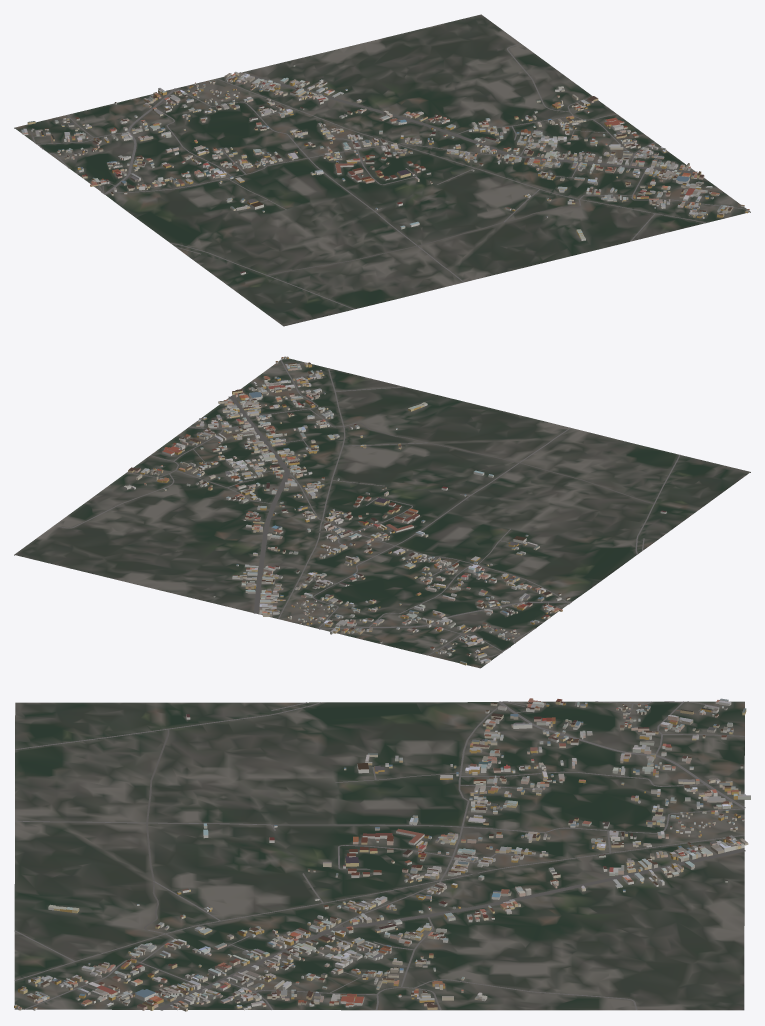
3 renders of one model, top to bottom at view 1: azimuth 30°, elevation 25°; view 2: azimuth 150°, elevation 25°; view 3: azimuth 270°, elevation 25°, orthographic. The views are drawn at different scales.
Visible parts, largest first — view 1: ground, buildings, roads; view 2: ground, buildings, roads; view 3: ground, buildings, roads.
Boxes of the visible parts, bbox=[...] form: ground: bbox=[14, 14, 750, 326]; buildings: bbox=[21, 64, 749, 274]; roads: bbox=[31, 43, 747, 309]; ground: bbox=[14, 357, 750, 668]; buildings: bbox=[123, 356, 666, 665]; roads: bbox=[54, 359, 680, 659]; ground: bbox=[14, 701, 744, 1010]; buildings: bbox=[14, 698, 750, 1011]; roads: bbox=[14, 701, 745, 1010].
Size of the model in its own units: 1413 by 16.52 by 1414.
